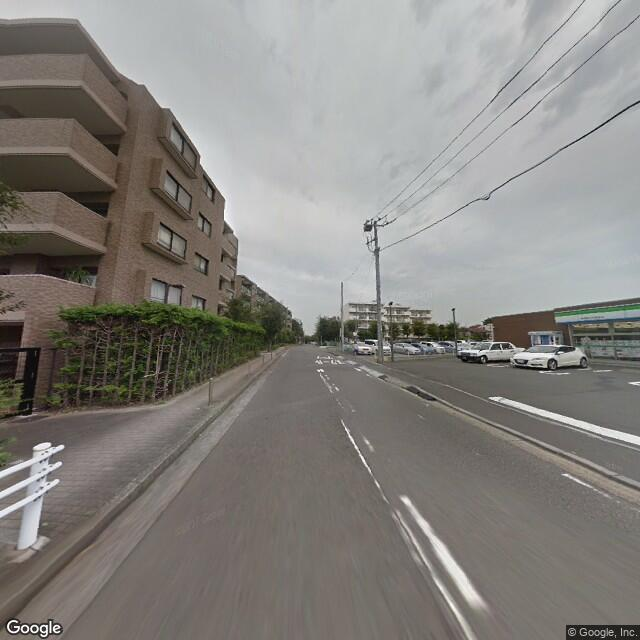family_mart: (554, 302, 637, 325)
